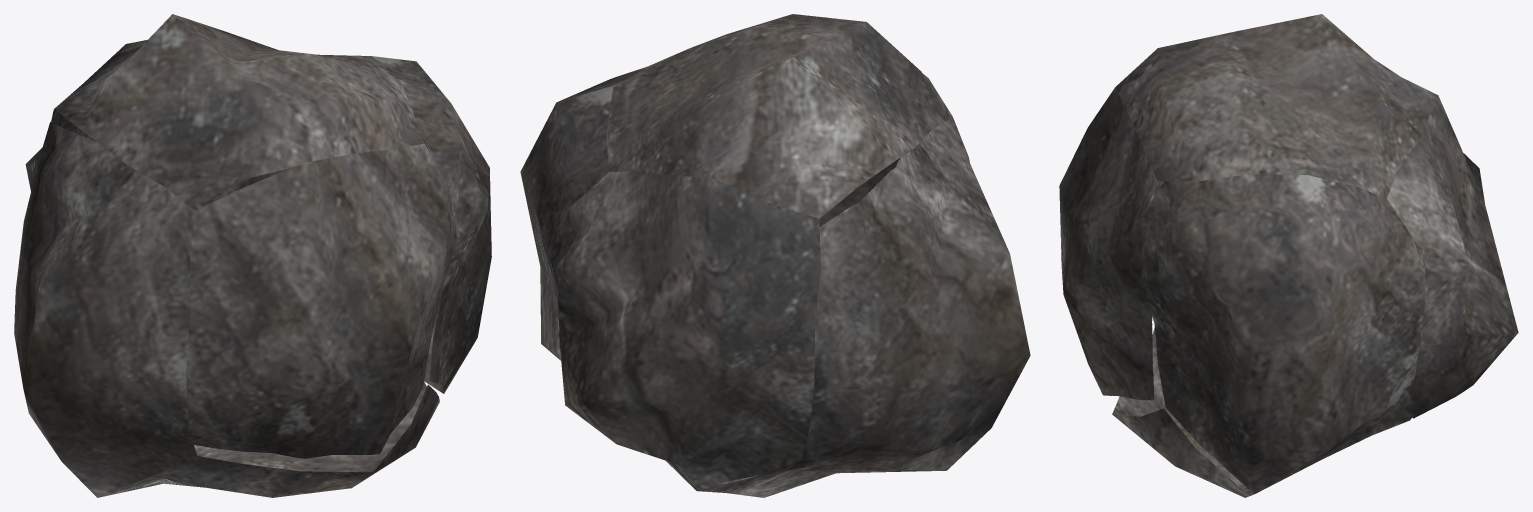
File: Rock8.FBX
3 renders of one model, left to right at view 1: azimuth 30°, elevation 25°; view 2: azimuth 150°, elevation 25°; view 3: azimuth 270°, elevation 25°, orthographic. The views are drawn at different scales.
Visible parts, largest first — view 1: rockLP001; view 2: rockLP001; view 3: rockLP001.
Boxes of the visible parts, bbox=[...] form: rockLP001: bbox=[14, 14, 491, 497]; rockLP001: bbox=[520, 14, 1030, 497]; rockLP001: bbox=[1059, 14, 1518, 497].
Bounding box in the file's own units: 2.67 × 2.43 × 2.46.
1 material, 1 textured.
